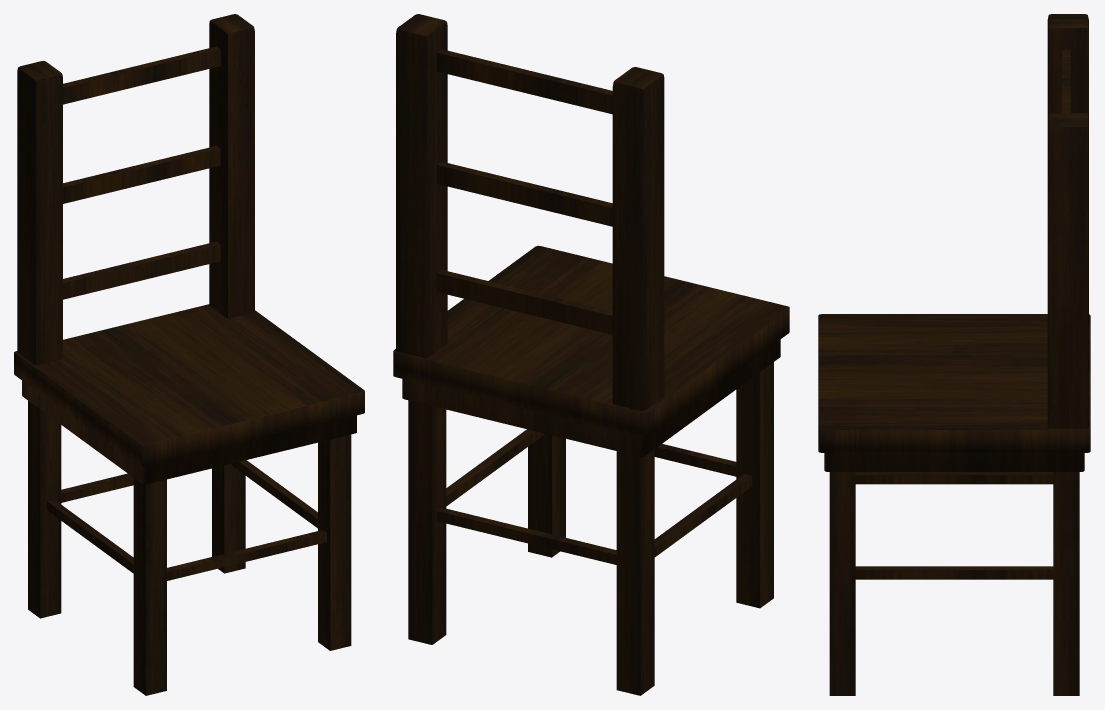
File: Chair.FBX
3 renders of one model, left to right at view 1: azimuth 30°, elevation 25°; view 2: azimuth 150°, elevation 25°; view 3: azimuth 270°, elevation 25°, orthographic. The views are drawn at different scales.
Parts seen in each view (by area): view 1: Chair; view 2: Chair; view 3: Chair.
Boxes of the visible parts, bbox=[...] form: Chair: bbox=[14, 14, 364, 695]; Chair: bbox=[393, 14, 789, 695]; Chair: bbox=[818, 14, 1090, 695].
Bounding box in the file's own units: 58.65 × 135 × 58.25.
Materials: 1 (1 with a texture image).
